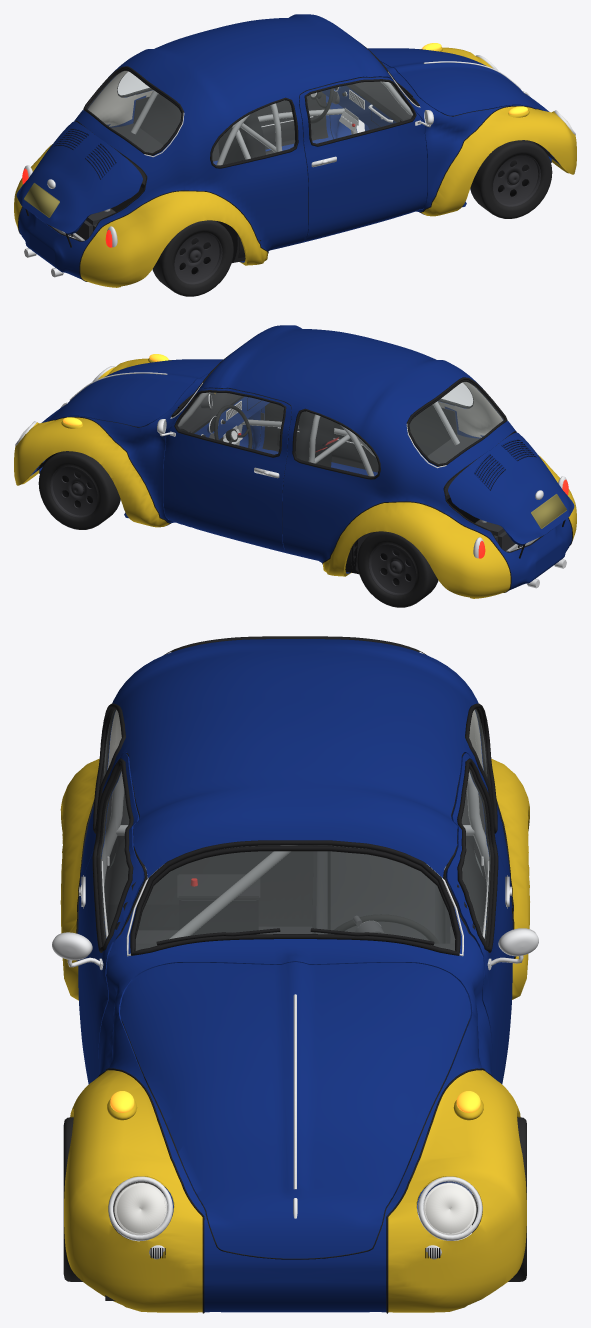
Rendered from fusca_v2.glb.
The picture shows the model from 3 angles, top to bottom: view 1: azimuth 30°, elevation 25°; view 2: azimuth 150°, elevation 25°; view 3: azimuth 270°, elevation 25°; orthographic projection. The views are drawn at different scales.
Visible parts, largest first — view 1: GLB_FUSCA_ROOT_Pintura_fusca_Interior_Escuro_Assoalho_Interi, GLB_Porta_Passageiro_DOBRADICA_Pintura_fusca_Interior_Escuro, GLB_FUSCA_ROOT_Vidro_fusca, GLB_Tampa_motor_DOBRADICA_Pintura_fusca_Interior_Escuro_Asso, GLB_Capo_DOBRADICA_Pintura_fusca_Interior_Escuro_Assoalho_In, GLB_Porta_Passageiro_DOBRADICA_Vidro_fusca, GLB_FUSCA_ROOT_Vinil_preto, GLB_FUSCA_ROOT_Borracha, GLB_Roda_Dianteira_Direita_PIVO_Pneu, GLB_Roda_Traseira_Direita_PIVO_Pneu, GLB_FUSCA_ROOT_Gaiola, GLB_Roda_Dianteira_Direita_PIVO_Roda_Aco_ (+11 smaller); view 2: GLB_FUSCA_ROOT_Pintura_fusca_Interior_Escuro_Assoalho_Interi, GLB_Porta_Motorista_DOBRADICA_Pintura_fusca_Interior_Escuro_, GLB_FUSCA_ROOT_Vidro_fusca, GLB_Tampa_motor_DOBRADICA_Pintura_fusca_Interior_Escuro_Asso, GLB_Capo_DOBRADICA_Pintura_fusca_Interior_Escuro_Assoalho_In, GLB_Porta_Motorista_DOBRADICA_Vidro_fusca, GLB_FUSCA_ROOT_Vinil_preto, GLB_FUSCA_ROOT_Borracha, GLB_Roda_Dianteira_Esquerda_PIVO_Pneu, GLB_Roda_Traseira_Esquerda_PIVO_Pneu, GLB_FUSCA_ROOT_Gaiola, GLB_Roda_Dianteira_Esquerda_PIVO_Roda_Aco_ (+13 smaller); view 3: GLB_FUSCA_ROOT_Pintura_fusca_Interior_Escuro_Assoalho_Interi, GLB_Capo_DOBRADICA_Pintura_fusca_Interior_Escuro_Assoalho_In, GLB_FUSCA_ROOT_Vidro_fusca, GLB_FUSCA_ROOT_Borracha, GLB_FUSCA_ROOT_Vinil_preto, GLB_FUSCA_ROOT_Banco_tecido, GLB_Porta_Motorista_DOBRADICA_Pintura_fusca_Interior_Escuro_, GLB_Porta_Passageiro_DOBRADICA_Pintura_fusca_Interior_Escuro, GLB_FUSCA_ROOT_Vidro_farol, GLB_FUSCA_ROOT_Gaiola, GLB_FUSCA_ROOT_Farol_Disco, GLB_FUSCA_ROOT_Cromo (+12 smaller).
Part boxes in pixels (bbox=[...]): GLB_FUSCA_ROOT_Pintura_fusca_Interior_Escuro_Assoalho_Interi: bbox=[14, 14, 576, 287]; GLB_Porta_Passageiro_DOBRADICA_Pintura_fusca_Interior_Escuro: bbox=[299, 77, 427, 241]; GLB_FUSCA_ROOT_Vidro_fusca: bbox=[87, 71, 294, 164]; GLB_Tampa_motor_DOBRADICA_Pintura_fusca_Interior_Escuro_Asso: bbox=[16, 121, 142, 234]; GLB_Capo_DOBRADICA_Pintura_fusca_Interior_Escuro_Assoalho_In: bbox=[367, 48, 549, 115]; GLB_Porta_Passageiro_DOBRADICA_Vidro_fusca: bbox=[307, 81, 412, 143]; GLB_FUSCA_ROOT_Vinil_preto: bbox=[111, 81, 411, 262]; GLB_FUSCA_ROOT_Borracha: bbox=[18, 44, 551, 281]; GLB_Roda_Dianteira_Direita_PIVO_Pneu: bbox=[470, 140, 552, 218]; GLB_Roda_Traseira_Direita_PIVO_Pneu: bbox=[152, 220, 233, 296]; GLB_FUSCA_ROOT_Gaiola: bbox=[131, 81, 412, 165]; GLB_Roda_Dianteira_Direita_PIVO_Roda_Aco_: bbox=[493, 155, 539, 205]; GLB_FUSCA_ROOT_Pintura_fusca_Interior_Escuro_Assoalho_Interi: bbox=[14, 325, 576, 598]; GLB_Porta_Motorista_DOBRADICA_Pintura_fusca_Interior_Escuro_: bbox=[163, 388, 291, 552]; GLB_FUSCA_ROOT_Vidro_fusca: bbox=[296, 382, 503, 475]; GLB_Tampa_motor_DOBRADICA_Pintura_fusca_Interior_Escuro_Asso: bbox=[448, 432, 574, 545]; GLB_Capo_DOBRADICA_Pintura_fusca_Interior_Escuro_Assoalho_In: bbox=[41, 359, 223, 426]; GLB_Porta_Motorista_DOBRADICA_Vidro_fusca: bbox=[178, 392, 283, 454]; GLB_FUSCA_ROOT_Vinil_preto: bbox=[179, 392, 479, 574]; GLB_FUSCA_ROOT_Borracha: bbox=[39, 355, 572, 592]; GLB_Roda_Dianteira_Esquerda_PIVO_Pneu: bbox=[38, 451, 120, 529]; GLB_Roda_Traseira_Esquerda_PIVO_Pneu: bbox=[357, 531, 438, 607]; GLB_FUSCA_ROOT_Gaiola: bbox=[178, 392, 459, 476]; GLB_Roda_Dianteira_Esquerda_PIVO_Roda_Aco_: bbox=[51, 466, 97, 516]; GLB_FUSCA_ROOT_Pintura_fusca_Interior_Escuro_Assoalho_Interi: bbox=[60, 639, 529, 1312]; GLB_Capo_DOBRADICA_Pintura_fusca_Interior_Escuro_Assoalho_In: bbox=[120, 962, 470, 1258]; GLB_FUSCA_ROOT_Vidro_fusca: bbox=[104, 709, 486, 950]; GLB_FUSCA_ROOT_Borracha: bbox=[76, 636, 516, 1313]; GLB_FUSCA_ROOT_Vinil_preto: bbox=[104, 790, 486, 950]; GLB_FUSCA_ROOT_Banco_tecido: bbox=[327, 845, 434, 940]; GLB_Porta_Motorista_DOBRADICA_Pintura_fusca_Interior_Escuro_: bbox=[445, 753, 512, 1084]; GLB_Porta_Passageiro_DOBRADICA_Pintura_fusca_Interior_Escuro: bbox=[78, 753, 144, 1084]; GLB_FUSCA_ROOT_Vidro_farol: bbox=[114, 1182, 476, 1234]; GLB_FUSCA_ROOT_Gaiola: bbox=[101, 771, 489, 939]; GLB_FUSCA_ROOT_Farol_Disco: bbox=[117, 1185, 473, 1233]; GLB_FUSCA_ROOT_Cromo: bbox=[108, 652, 482, 1259].
Size of the model in its own units: 3.81 by 1.34 by 1.59.
